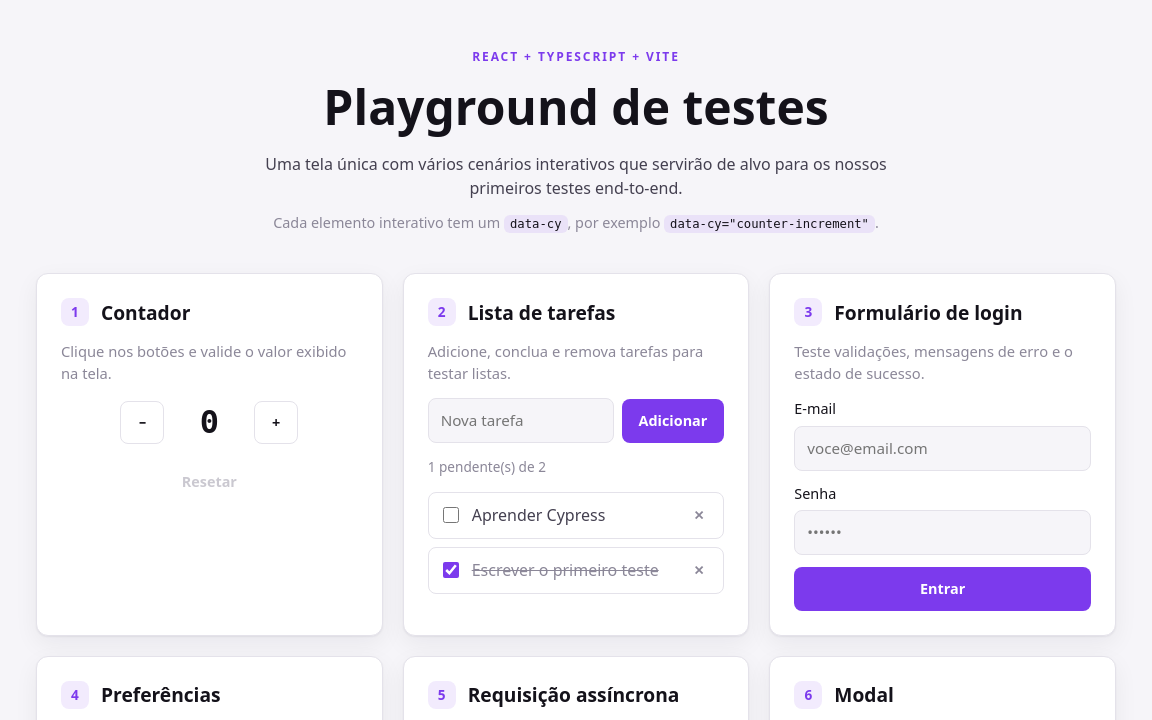
Contador › decrementa ao clicar no botão
The width and height of the screenshot is (1152, 720).
expect the text "0" is shown: met, box x1=200 y1=403 x2=219 y2=441
Step 1. Click the button "−" → (142, 423), box x1=120 y1=401 x2=164 y2=445
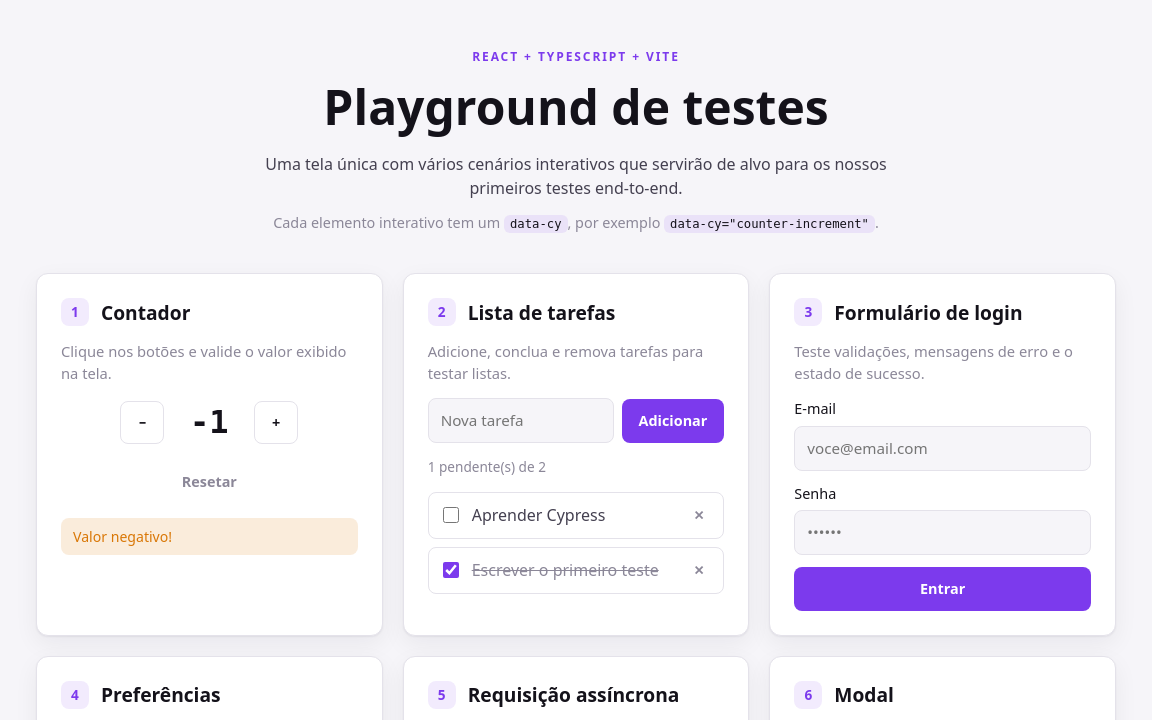
expect the text "-1" is shown: met, box x1=190 y1=403 x2=228 y2=441
